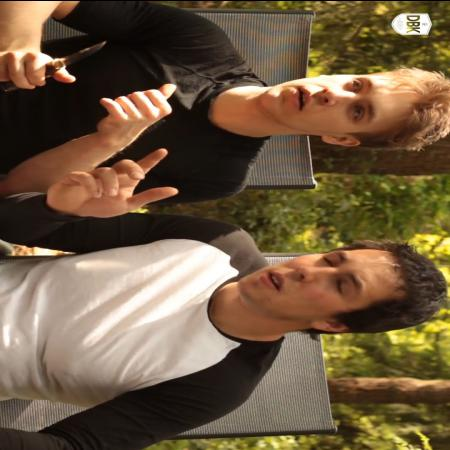long weapon: (0, 35, 118, 91)
